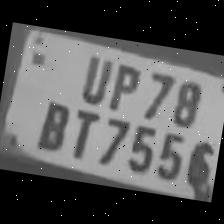5: (149, 125, 187, 182), (121, 120, 159, 174)
7: (134, 66, 174, 123), (91, 110, 129, 168)
8: (164, 72, 204, 128)
B: (32, 94, 72, 153)
P: (102, 57, 142, 114)
T: (64, 102, 102, 160)
U: (72, 46, 114, 105)
